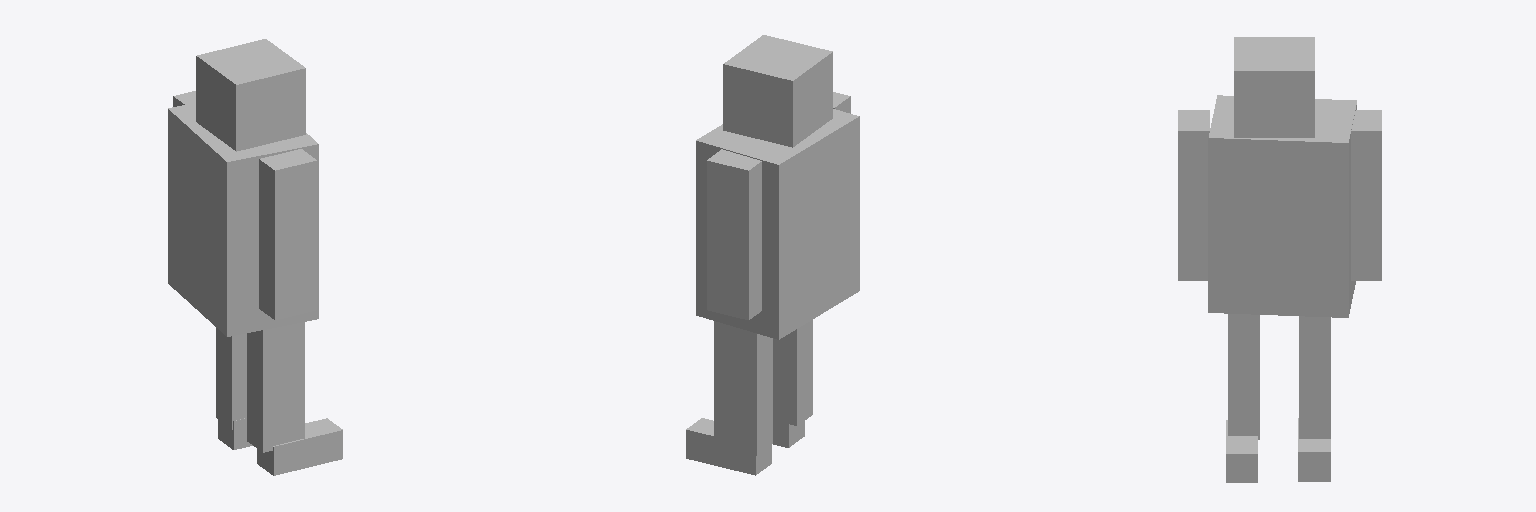
File: monito2.obj
3 views of the same model, side by side, from view 1: azimuth 30°, elevation 25°; view 2: azimuth 150°, elevation 25°; view 3: azimuth 270°, elevation 25° (orthographic).
Visible parts, largest first — view 1: (null); view 2: (null); view 3: (null).
Part boxes in pixels (left/top/right/bottom): (null): left=168, top=39, right=342, bottom=475; (null): left=686, top=35, right=859, bottom=475; (null): left=1178, top=37, right=1381, bottom=482.
Bounding box in the file's own units: 33.99 × 107 × 49.88.